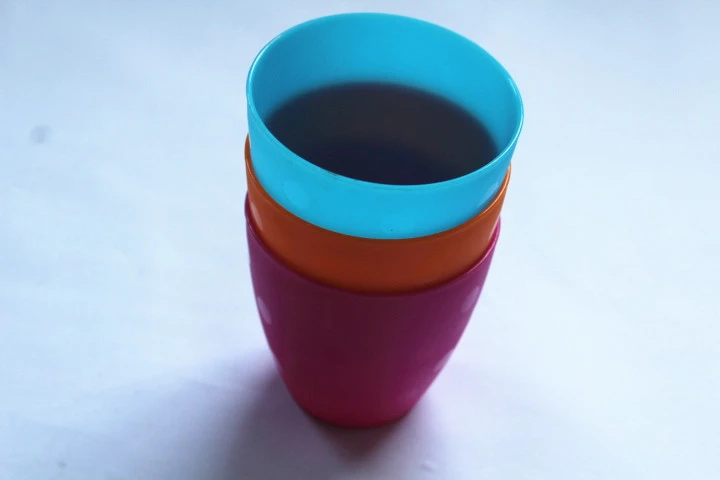plastic_glass: (234, 8, 533, 437)
